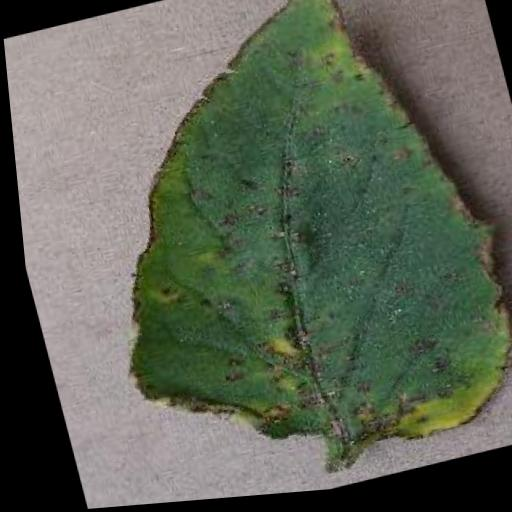Bacterial Spot: (37, 0, 512, 510)
